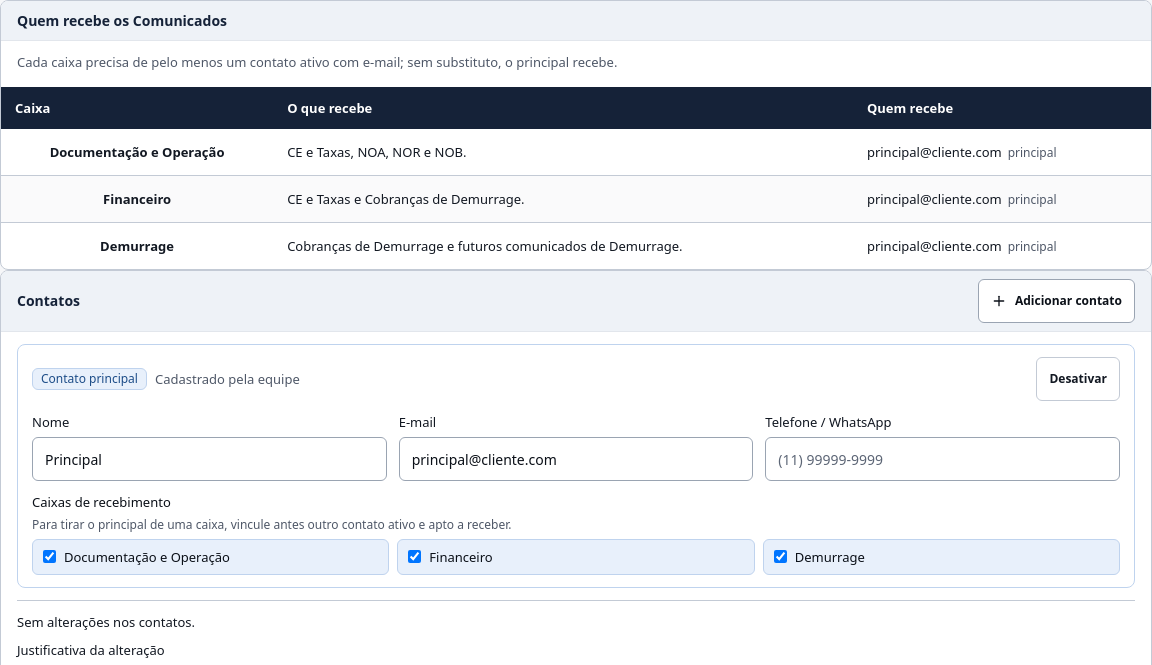
CustomerContactConfiguration (behavior) › não desmarca caixa do principal sem substituto
expect the field showing "principal@cliente.com" is shown: met, box 399,437 -> 753,481
Click the checkbox labelled "Financeiro" at (415, 556), box 408,550 -> 421,562
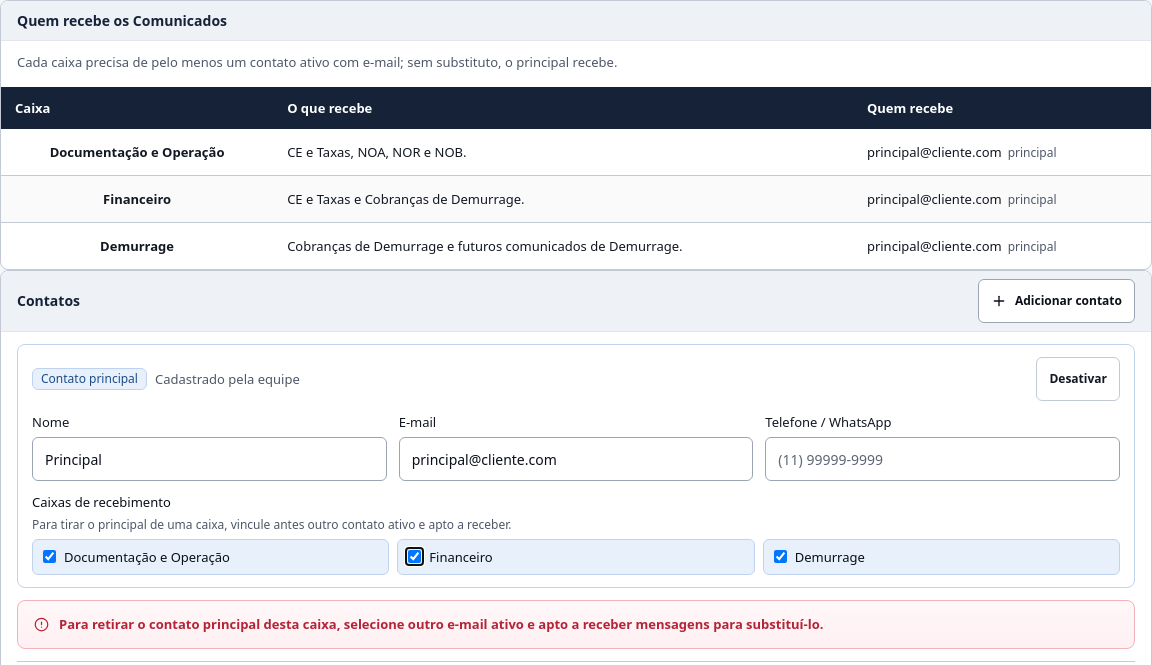
expect the message shows "selecione outro e-mail": met, box 59,614 -> 824,632
